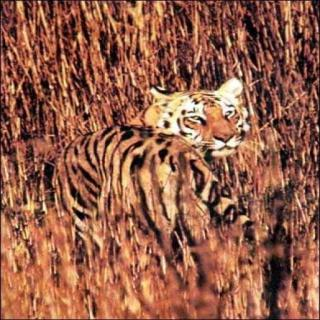Tiger: (47, 71, 254, 265)
